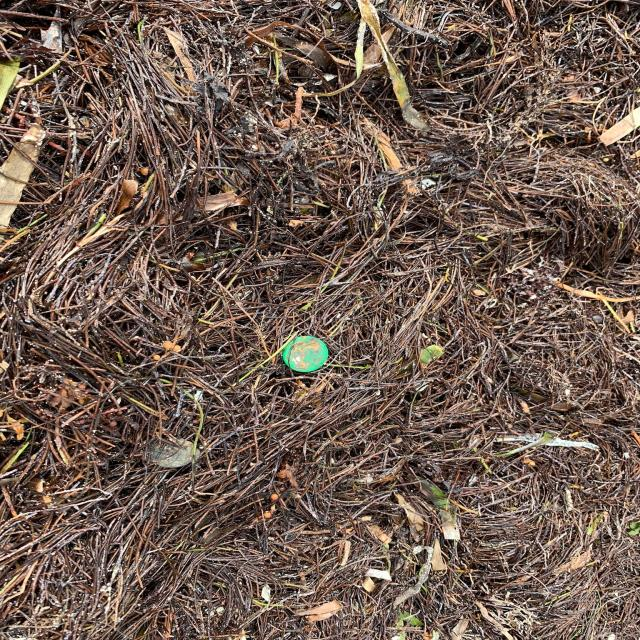litter: (283, 336, 327, 372)
